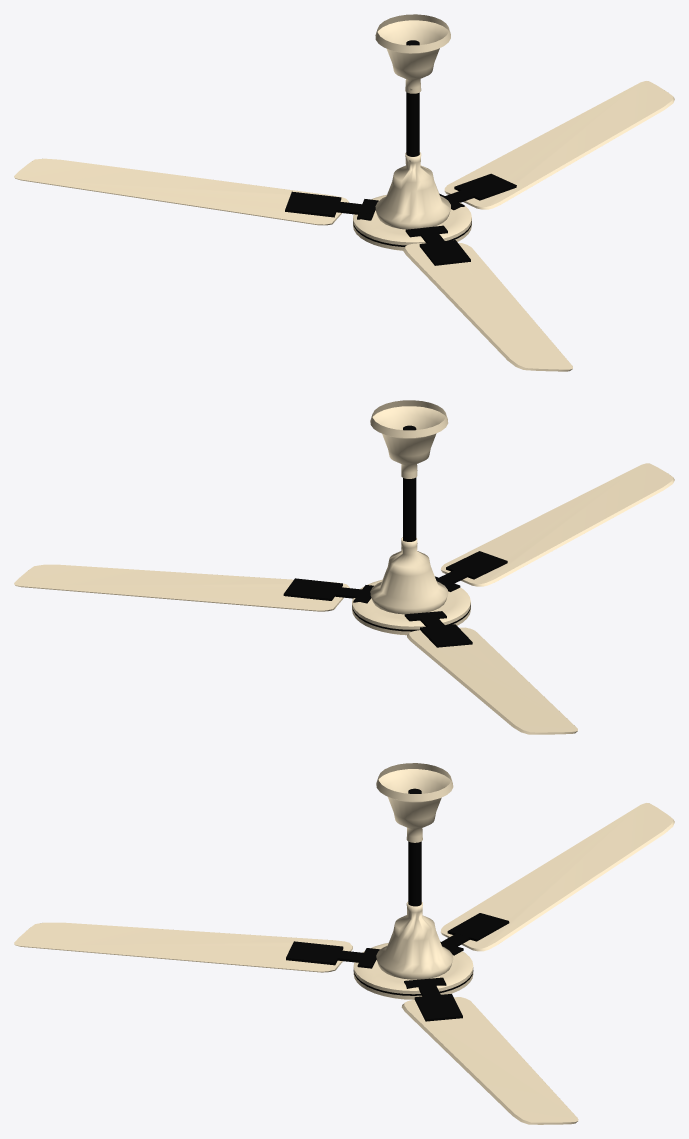
File: fan.fbx
3 renders of one model, top to bottom at view 1: azimuth 30°, elevation 25°; view 2: azimuth 150°, elevation 25°; view 3: azimuth 270°, elevation 25°, orthographic.
Visible parts, largest first — view 1: Pás_1; view 2: Pás_1; view 3: Pás_1.
Boxes of the visible parts, left/top/right/bottom form: Pás_1: left=14, top=14, right=674, bottom=371; Pás_1: left=14, top=400, right=674, bottom=734; Pás_1: left=14, top=763, right=674, bottom=1124.
Size of the model in its own units: 637 by 209 by 601.
